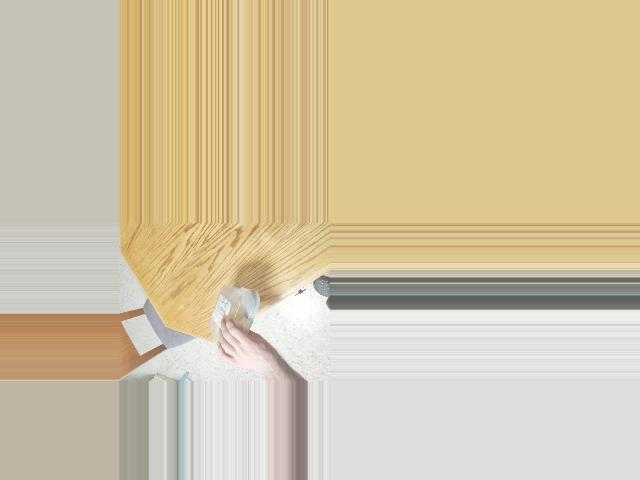cheese: (208, 289, 256, 345)
